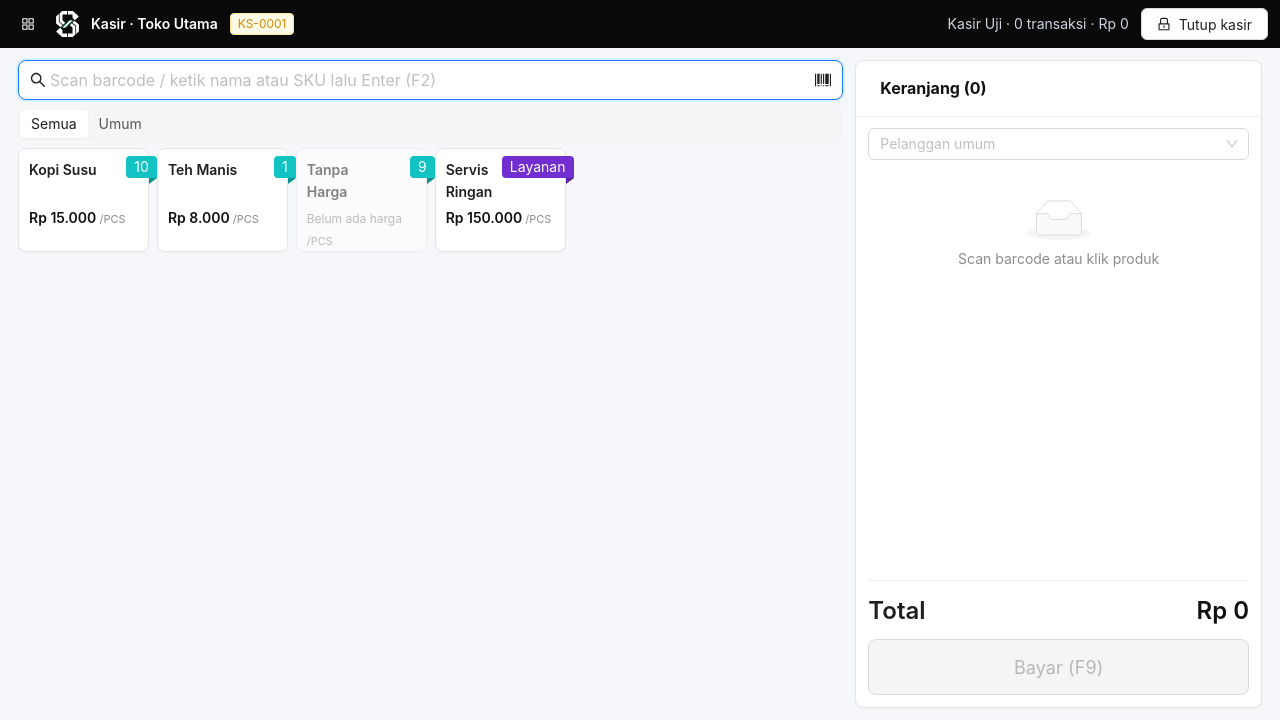
Kasir (Register) › bayar tunai pas: pesanan dikirim sekali dengan baris dan pembayaran yang benar
Later steps or results of the test are not shown.
Click the text "Kopi Susu". click: (63, 170)
box: [29,161,97,178]
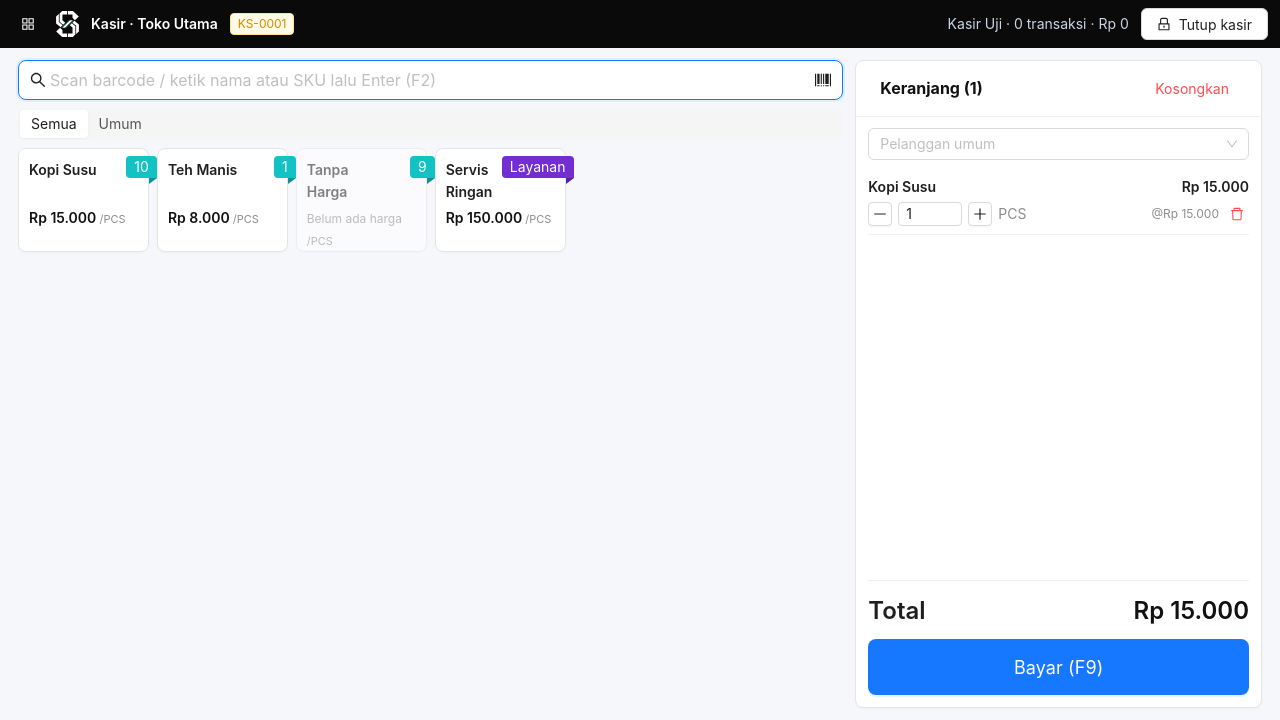
Result: the text "Keranjang (1)" is shown at [880,78,983,98]
Click the button "Bayar (F9)". click: (1059, 667)
box: [868,639,1249,695]
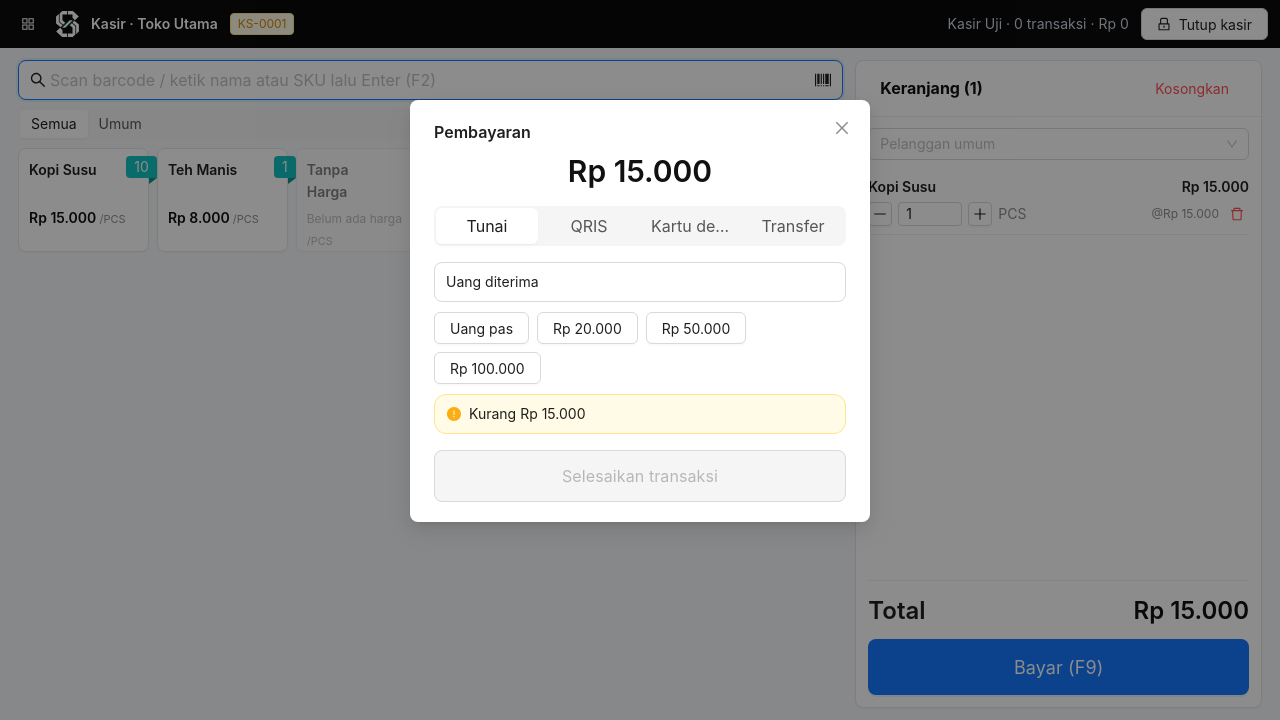
Click the button "Uang pas". click: (482, 328)
box: [434,312,529,344]
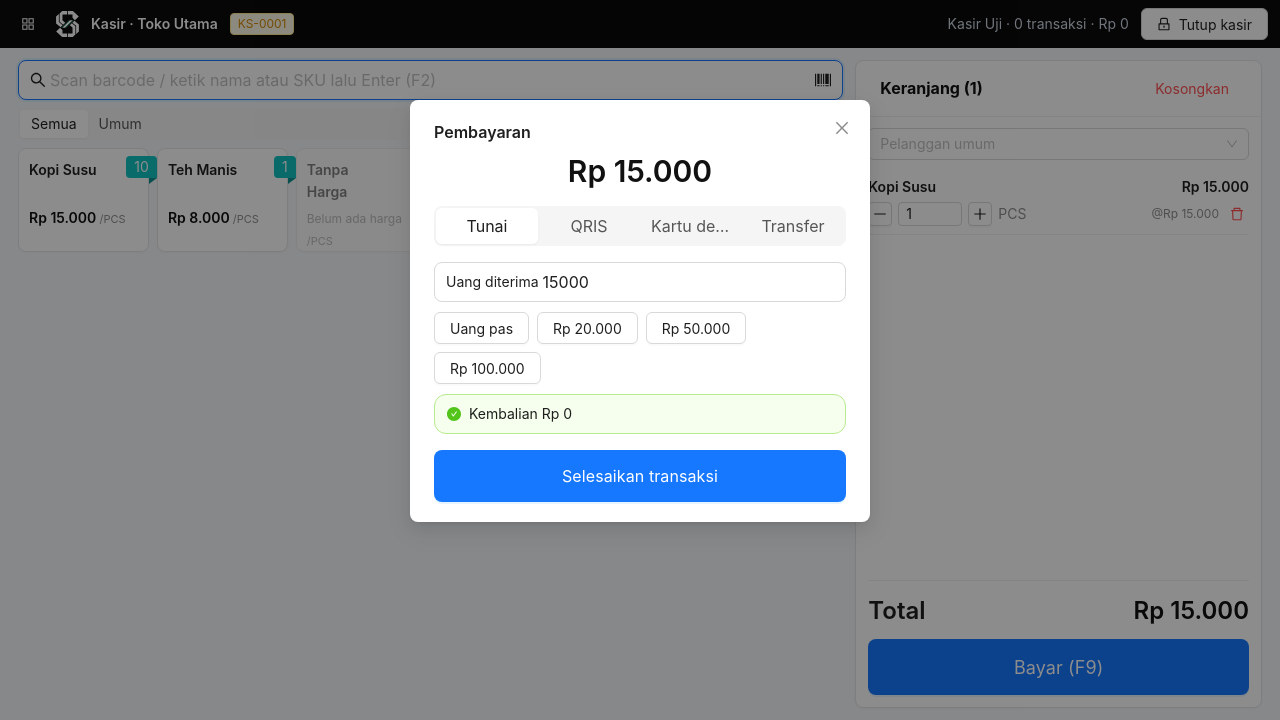
Result: the button "Selesaikan transaksi" is enabled at [434,450,846,502]
